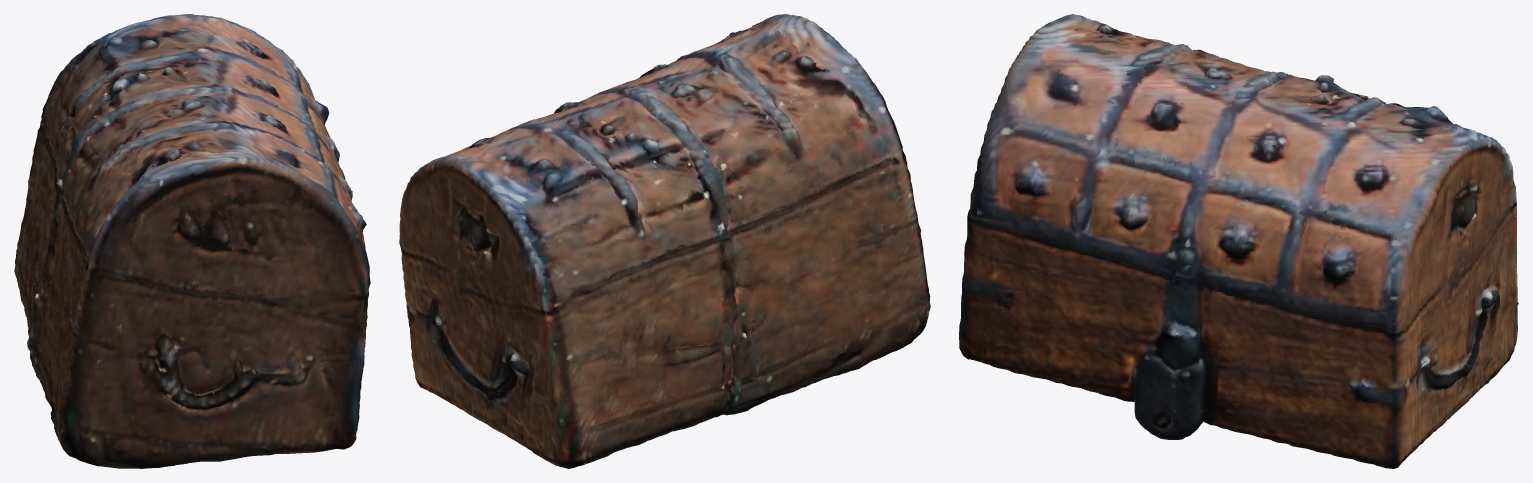
The model's file is iron-banded-chest-v01.glb.
3 renders of one model, left to right at view 1: azimuth 30°, elevation 25°; view 2: azimuth 150°, elevation 25°; view 3: azimuth 270°, elevation 25°, orthographic. The views are drawn at different scales.
Visible parts, largest first — view 1: iron-banded-chest; view 2: iron-banded-chest; view 3: iron-banded-chest.
Boxes of the visible parts, x1,y1,x2,y2 form: iron-banded-chest: (14,14,370,468); iron-banded-chest: (399,14,930,468); iron-banded-chest: (959,14,1518,468).
Size of the model in its own units: 1.41 by 1.05 by 1.65.
1 material, 1 textured.
